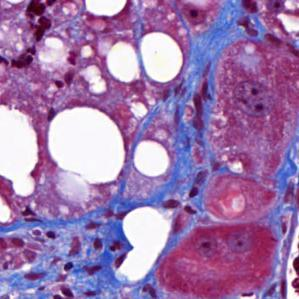inflammation: (18, 0, 62, 44), (187, 79, 217, 142), (66, 235, 84, 262)
